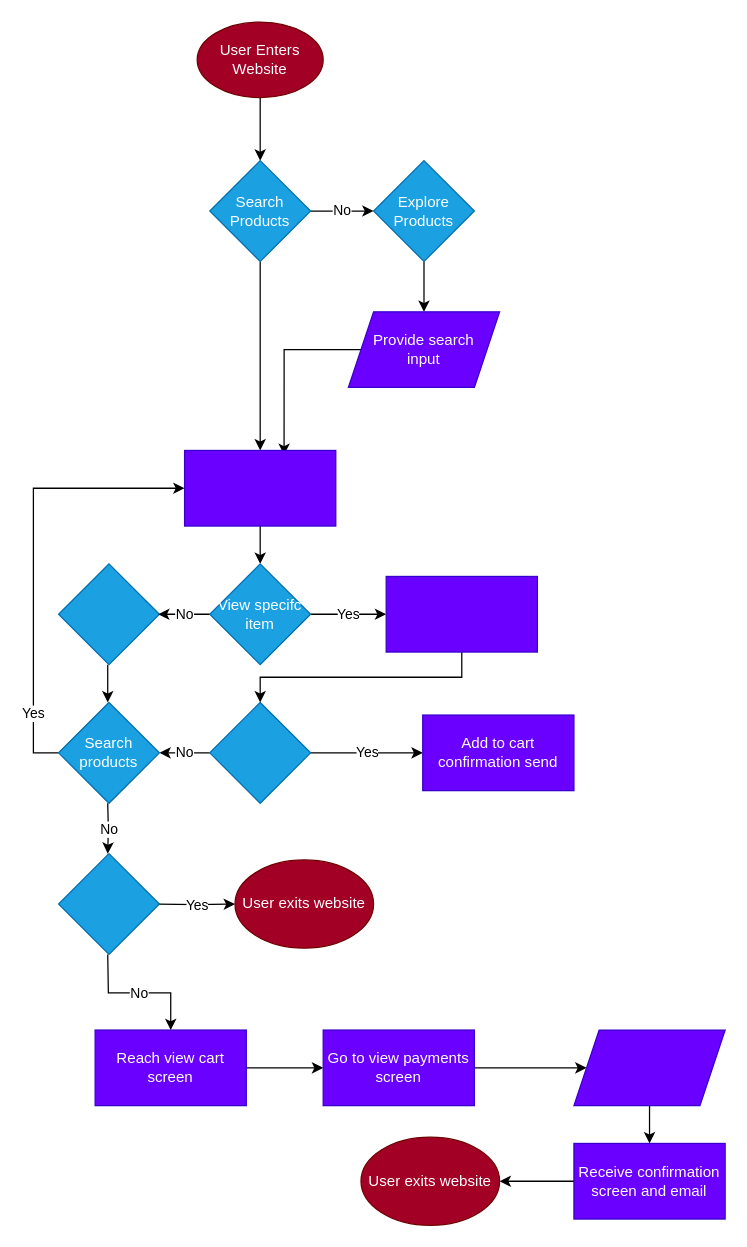
Some shapes in this 747 by 1247 pixel diagram are drawn without their labels. The shapes that lost their labels are listed below. From the top down, each one's centre as x and y in pixels, then its label:
At point (259, 487): "Look over products".
At point (108, 614): "Continue shopping".
At point (461, 613): "Open product site".
At point (260, 752): "Add to cart".
At point (108, 903): "Checkout".
At point (649, 1067): "Give Payment Data".
